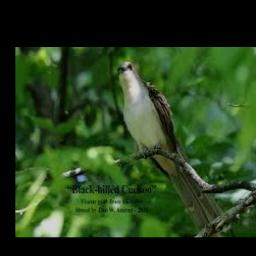Cuckoo: (117, 62, 231, 237)
